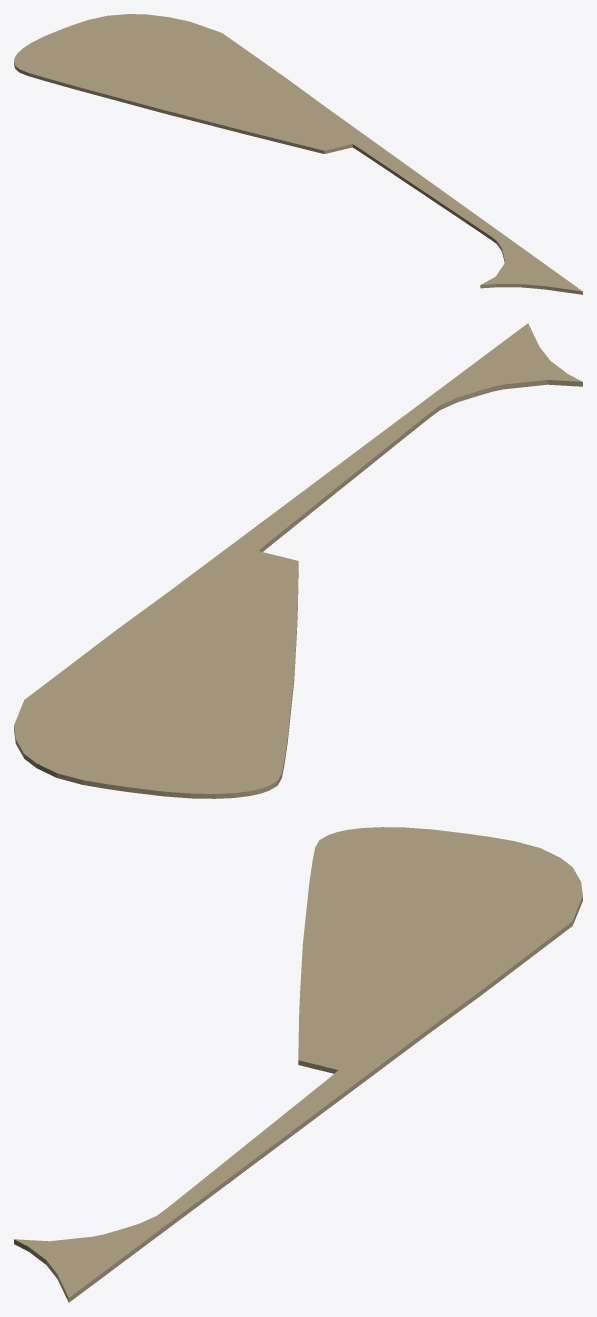
3 views of the same model, one above another, from view 1: azimuth 30°, elevation 25°; view 2: azimuth 150°, elevation 25°; view 3: azimuth 330°, elevation 25° (orthographic). The views are drawn at different scales.
Parts seen in each view (by area): view 1: Cube.009; view 2: Cube.009; view 3: Cube.009.
Boxes of the visible parts, left/top/right/bottom form: Cube.009: left=14, top=14, right=582, bottom=294; Cube.009: left=14, top=323, right=582, bottom=798; Cube.009: left=14, top=827, right=582, bottom=1302.
Bounding box in the file's own units: 912 × 15 × 3257.
